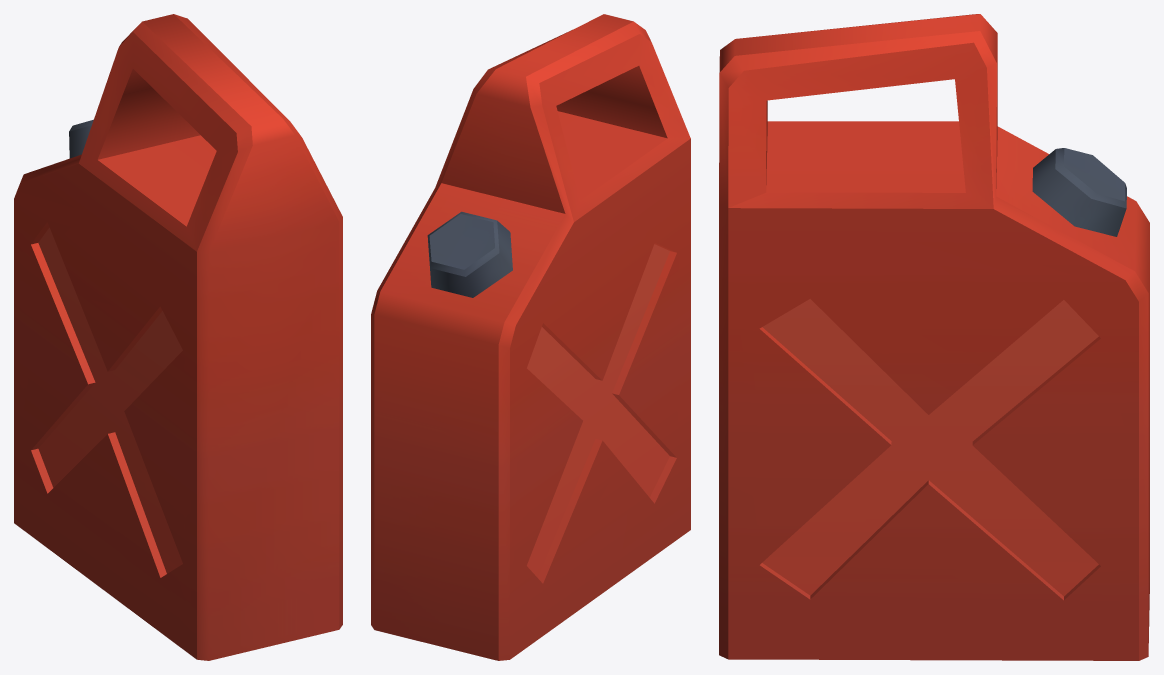
Rendered from Carnister.fbx.
3 views of the same model, side by side, from view 1: azimuth 30°, elevation 25°; view 2: azimuth 150°, elevation 25°; view 3: azimuth 270°, elevation 25° (orthographic). The views are drawn at different scales.
Visible parts, largest first — view 1: Carnister; view 2: Carnister; view 3: Carnister.
Boxes of the visible parts, bbox=[...] form: Carnister: bbox=[14, 14, 342, 660]; Carnister: bbox=[371, 14, 690, 660]; Carnister: bbox=[719, 14, 1149, 660].
Size of the model in its own units: 16.65 by 58.11 by 37.91.
